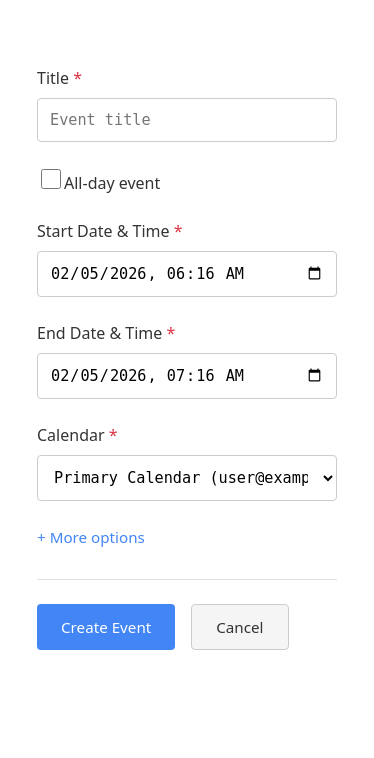
Test: EventForm Component › Attendees Management › should add attendee when valid email is entered
The width and height of the screenshot is (374, 758).
Click more options to show attendees field
Click the button "+ More options" at point(91, 537), box [37,527,145,547]
(page scrolled)
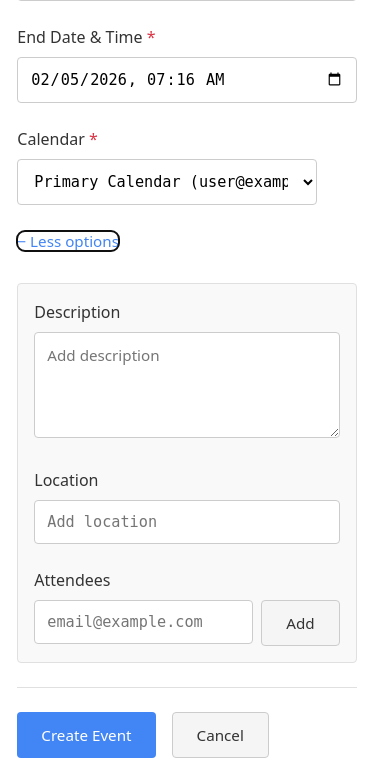
Add attendee
Type "attendee@example.com" into the field labelled "Attendees" at point(144, 622), box [34,600,253,644]
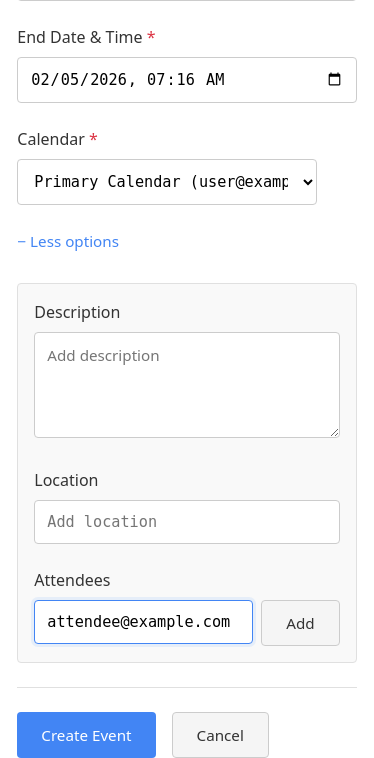
Click the button "Add" at point(300, 623), box [261,600,340,646]
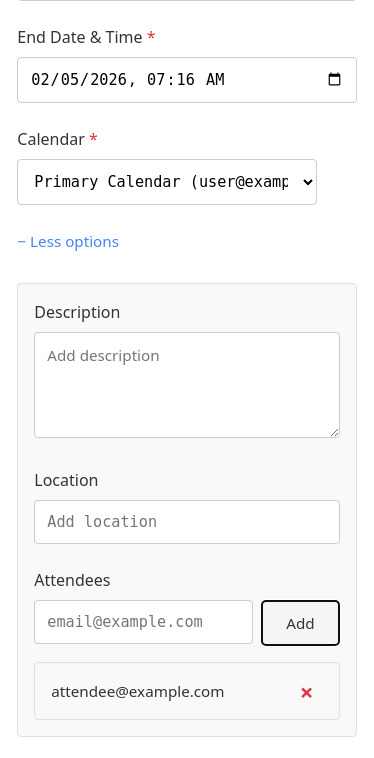
expect the text "attendee@example.com" is shown: met, box [51,680,224,702]
